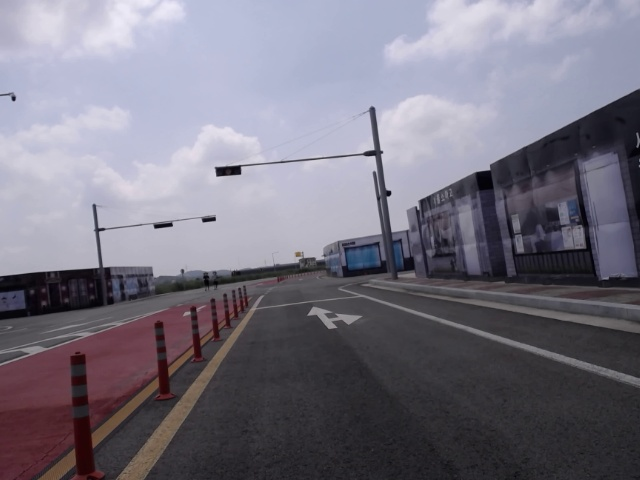orange_3: (213, 167, 241, 177)
